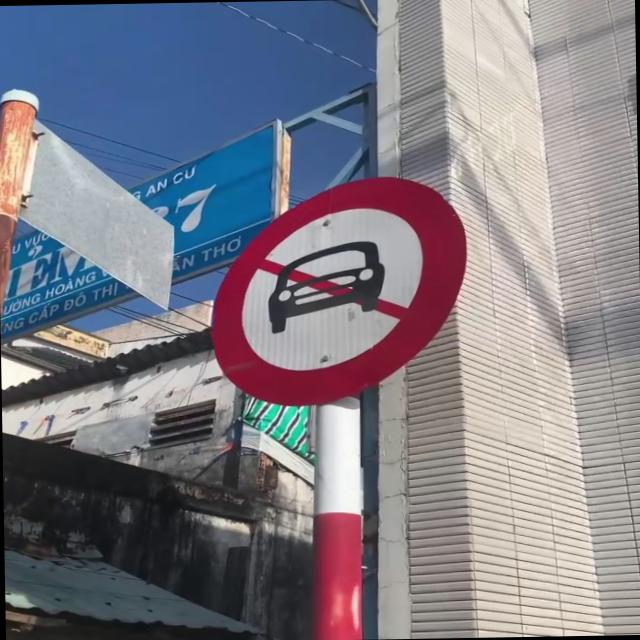Cam_O_To: (201, 174, 471, 412)
